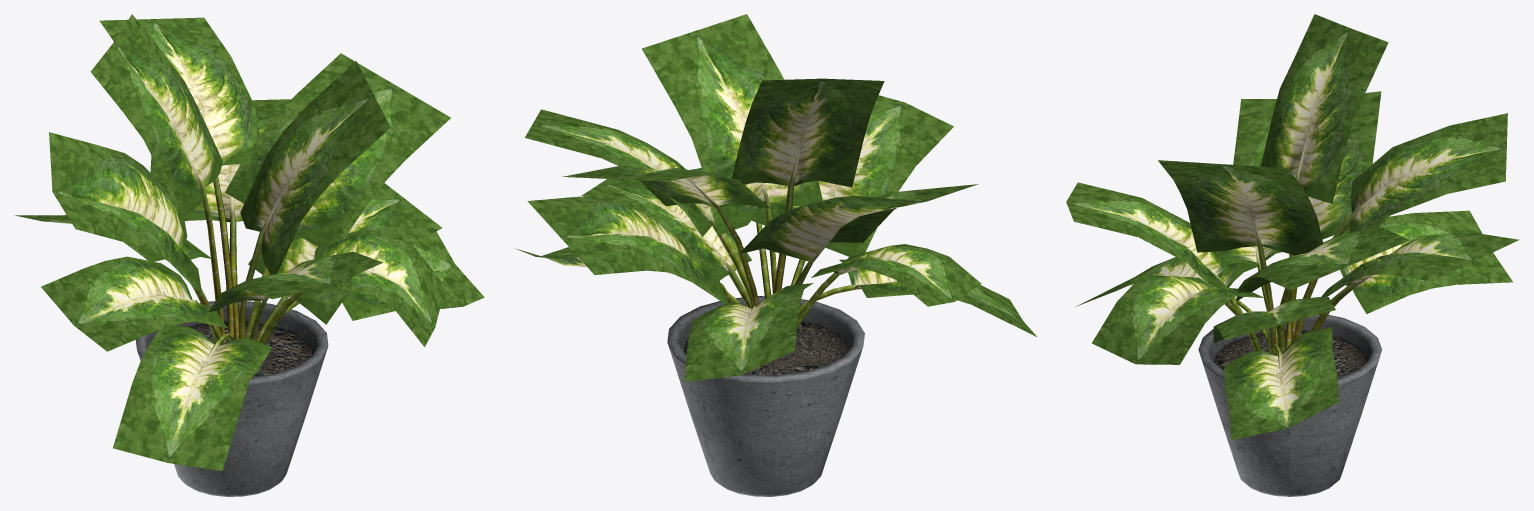
File: Furniture_foliageplant_02_LOD0 #39155.fbx
3 views of the same model, side by side, from view 1: azimuth 30°, elevation 25°; view 2: azimuth 150°, elevation 25°; view 3: azimuth 270°, elevation 25° (orthographic). The views are drawn at different scales.
Parts seen in each view (by area): view 1: foliageplant_02_B1, foliageplant_02_A; view 2: foliageplant_02_B1, foliageplant_02_A; view 3: foliageplant_02_B1, foliageplant_02_A.
Part boxes in pixels (bbox=[...]): foliageplant_02_B1: bbox=[15, 14, 484, 470]; foliageplant_02_A: bbox=[135, 301, 328, 496]; foliageplant_02_B1: bbox=[515, 14, 1036, 381]; foliageplant_02_A: bbox=[667, 296, 864, 496]; foliageplant_02_B1: bbox=[1066, 14, 1519, 439]; foliageplant_02_A: bbox=[1198, 314, 1382, 496].
Bounding box in the file's own units: 0.4925 × 0.4949 × 0.4934.
Materials: 2 (2 with a texture image).
